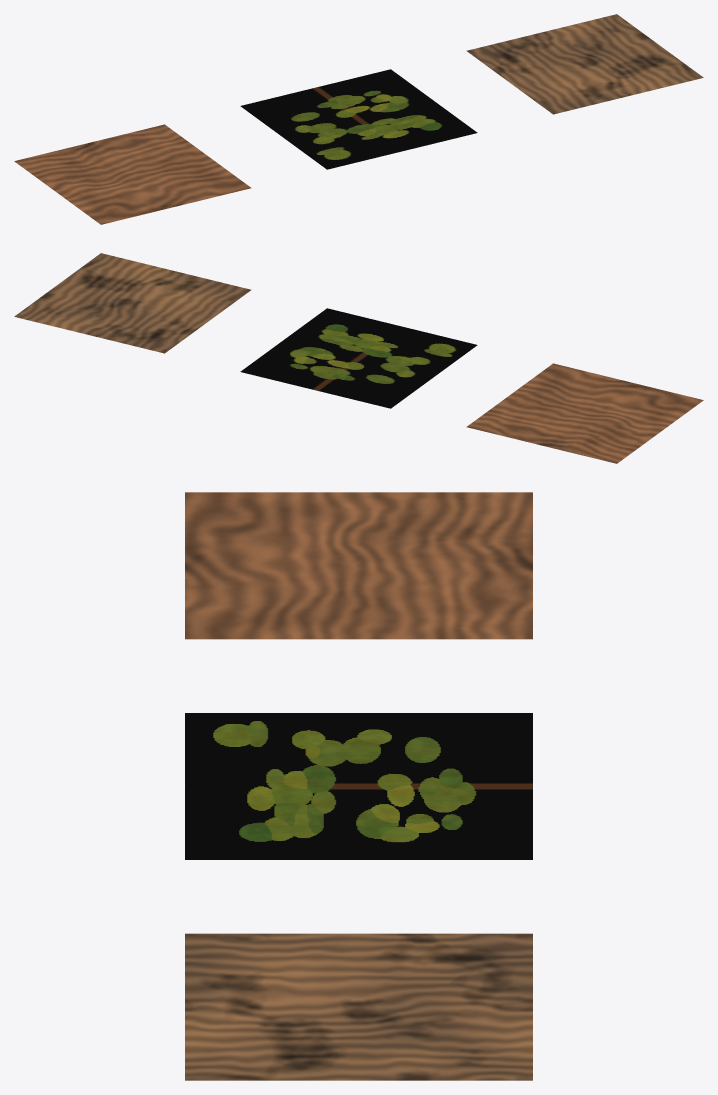
Rendered from M7TextureCarrier.glb.
3 renders of one model, top to bottom at view 1: azimuth 30°, elevation 25°; view 2: azimuth 150°, elevation 25°; view 3: azimuth 270°, elevation 25°, orthographic. The views are drawn at different scales.
Parts seen in each view (by area): view 1: M7ShrubCarrier, M7RockCarrier, M7BarkCarrier; view 2: M7ShrubCarrier, M7RockCarrier, M7BarkCarrier; view 3: M7RockCarrier, M7BarkCarrier, M7ShrubCarrier.
Boxes of the visible parts, <box> form: M7ShrubCarrier: <box>240,69,477,169</box>; M7RockCarrier: <box>14,124,251,224</box>; M7BarkCarrier: <box>466,14,703,114</box>; M7ShrubCarrier: <box>240,308,477,408</box>; M7RockCarrier: <box>466,363,703,463</box>; M7BarkCarrier: <box>14,253,251,353</box>; M7RockCarrier: <box>185,492,532,639</box>; M7BarkCarrier: <box>185,933,532,1080</box>; M7ShrubCarrier: <box>185,713,532,859</box>.
Size of the model in its own units: 8 by 0 by 2.
Materials: 3 (3 with a texture image).
